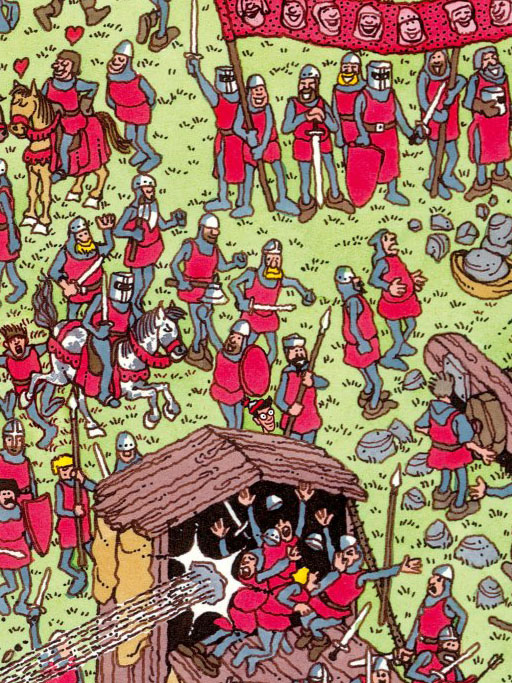waldo: (241, 395, 277, 432)
